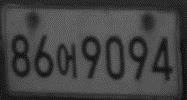0: (104, 34, 125, 80)
4: (151, 35, 174, 83)
6: (33, 35, 54, 78)
8: (9, 34, 32, 77)
9: (126, 36, 149, 80), (80, 35, 102, 80)
어: (55, 41, 78, 79)
